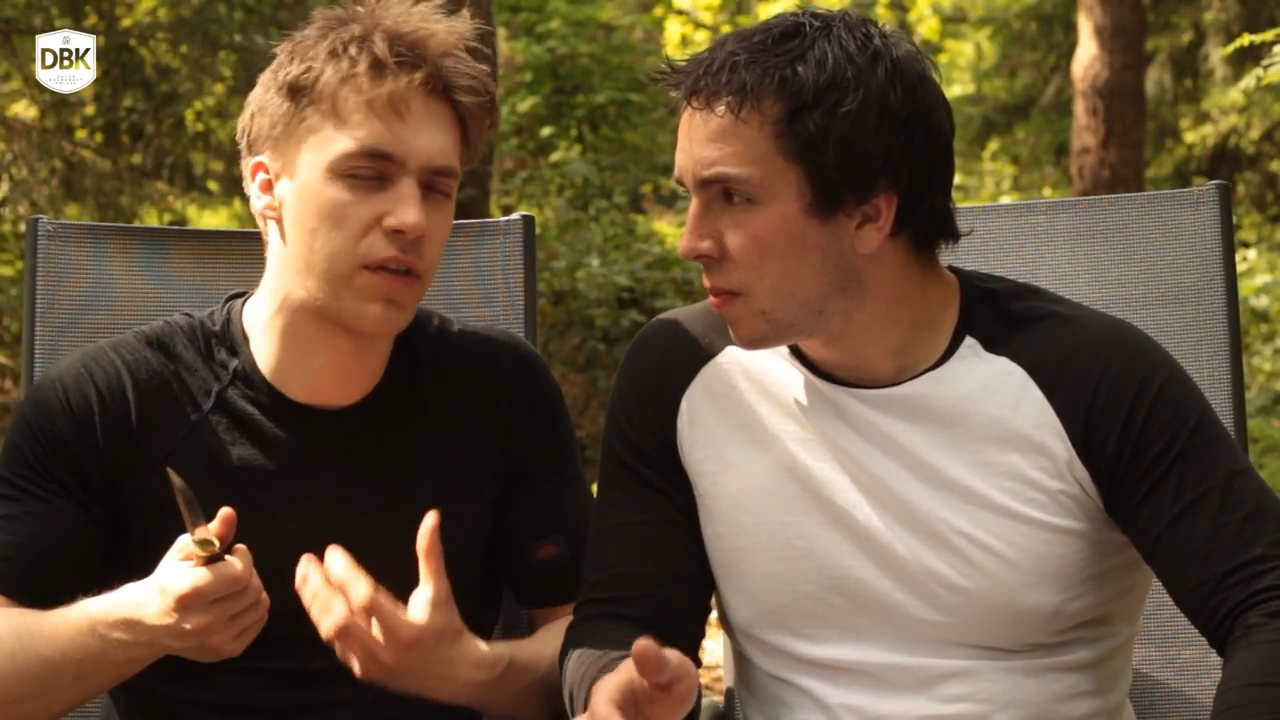knife: (129, 441, 277, 636)
